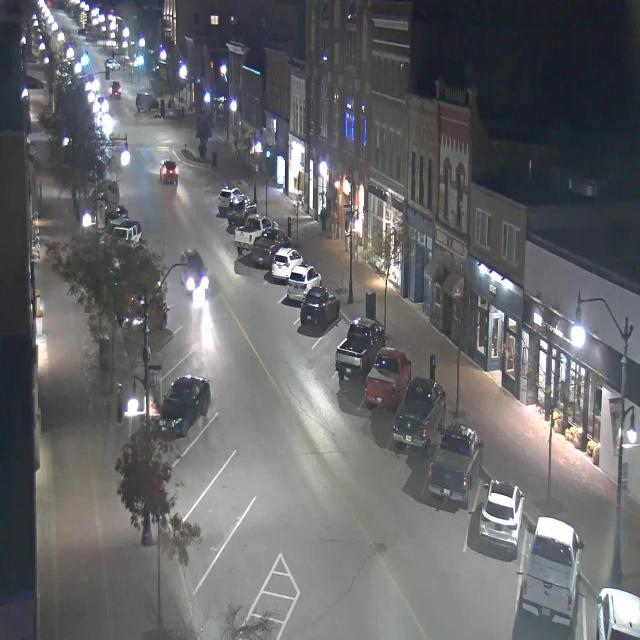available: (224, 483, 300, 590), (202, 444, 263, 524), (182, 396, 240, 479), (316, 307, 353, 368)
occupied: (521, 514, 584, 628), (428, 420, 483, 509), (391, 375, 446, 456), (478, 478, 525, 558), (157, 374, 210, 438), (335, 315, 385, 382), (364, 346, 411, 411), (595, 586, 640, 639), (299, 286, 340, 328), (233, 209, 267, 259), (286, 262, 322, 303), (251, 230, 288, 268), (271, 246, 303, 282), (227, 196, 256, 228), (216, 186, 242, 214)
